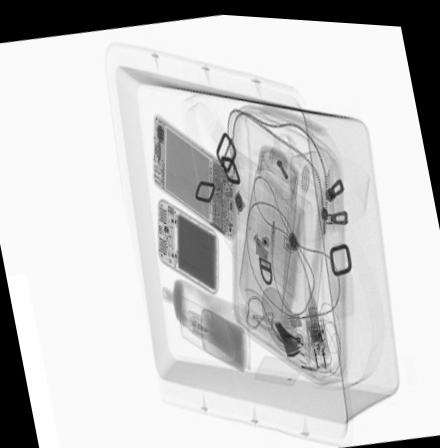Powerbank: (156, 193, 219, 294)
